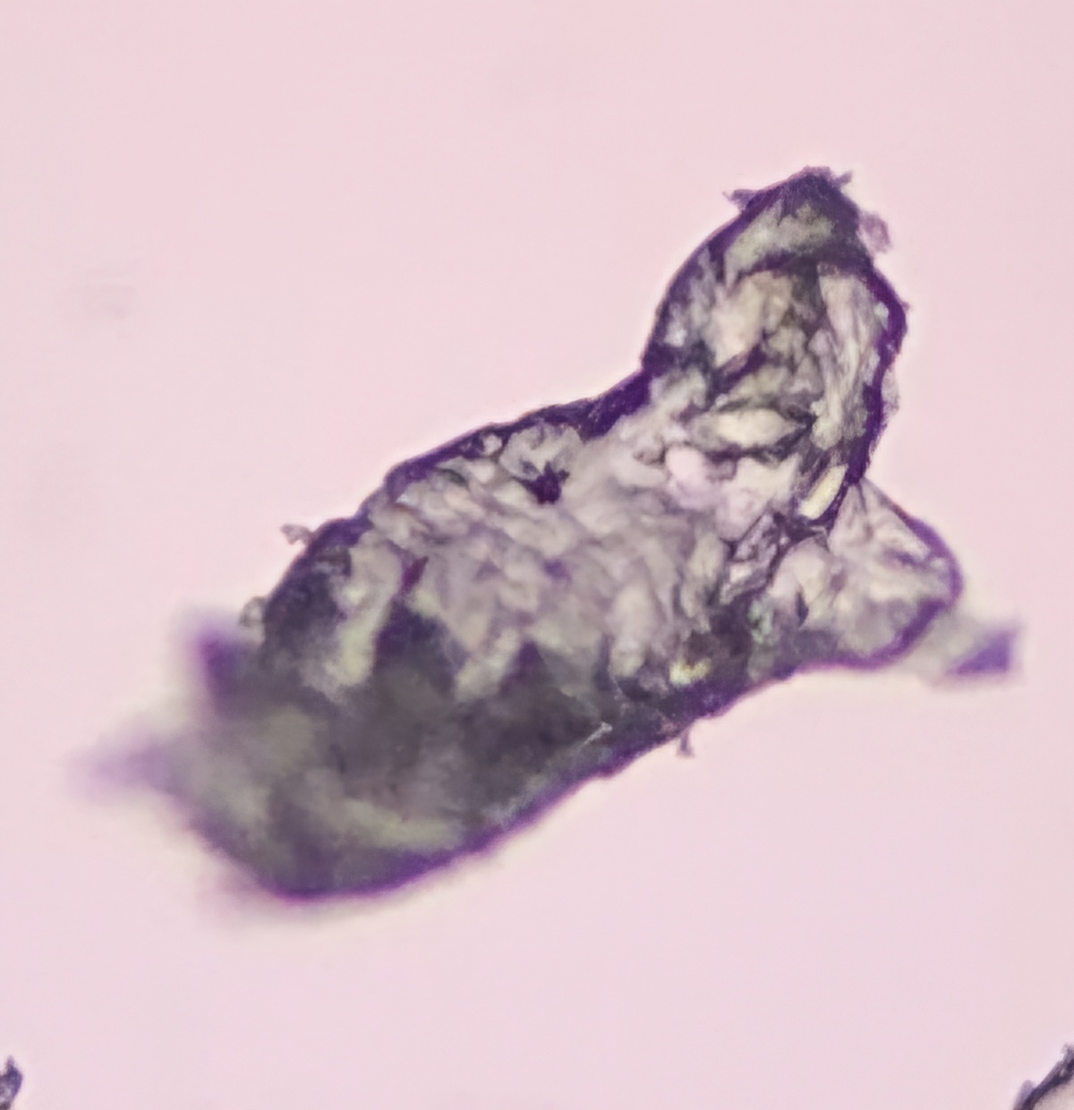microplastic: (65, 145, 1056, 942)
